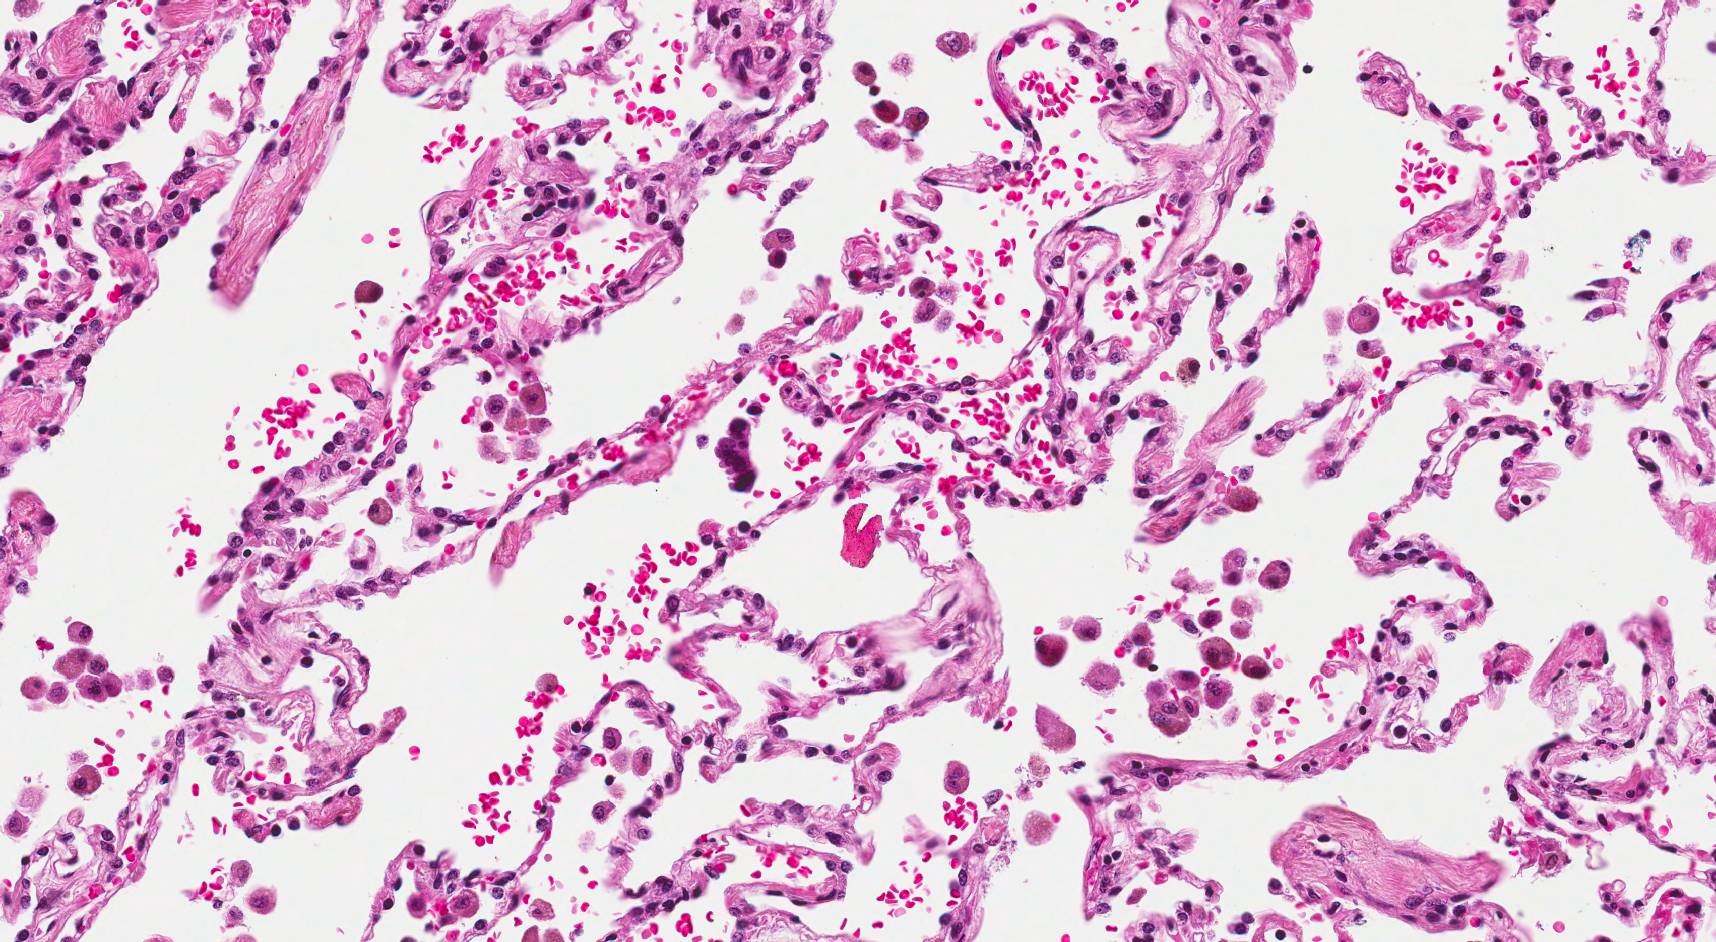stas: (714, 415, 758, 495)
